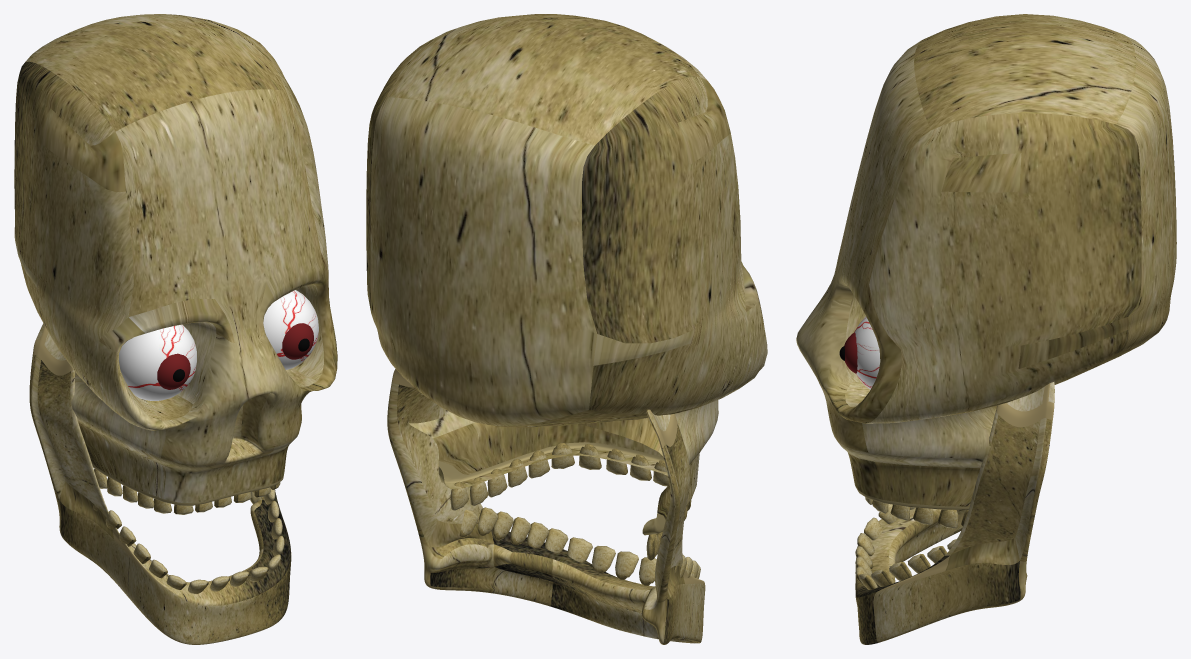
The model's file is скример скилет.fbx.
3 renders of one model, left to right at view 1: azimuth 30°, elevation 25°; view 2: azimuth 150°, elevation 25°; view 3: azimuth 270°, elevation 25°, orthographic. The views are drawn at different scales.
Visible parts, largest first — view 1: Cube, Cube.001, Sphere, Cube.002, Sphere.001, Cube.018, Sphere.002, Sphere.003; view 2: Cube, Cube.001, Cube.002, Cube.018; view 3: Cube, Cube.001, Cube.002, Sphere.001, Cube.018.
Part boxes in pixels (x1,y1,x2,y2): Cube: [14, 14, 337, 505]; Cube.001: [29, 323, 291, 644]; Sphere: [119, 324, 196, 400]; Cube.002: [93, 488, 284, 593]; Sphere.001: [263, 290, 318, 369]; Cube.018: [94, 468, 280, 514]; Sphere.002: [157, 353, 190, 389]; Sphere.003: [282, 323, 313, 359]; Cube: [366, 14, 767, 535]; Cube.001: [387, 369, 705, 644]; Cube.002: [459, 507, 700, 585]; Cube.018: [450, 443, 691, 560]; Cube: [796, 14, 1176, 510]; Cube.001: [855, 382, 1054, 644]; Cube.002: [855, 504, 956, 589]; Sphere.001: [854, 316, 880, 389]; Cube.018: [865, 497, 968, 528].
Size of the model in its own units: 137 by 287 by 168.
